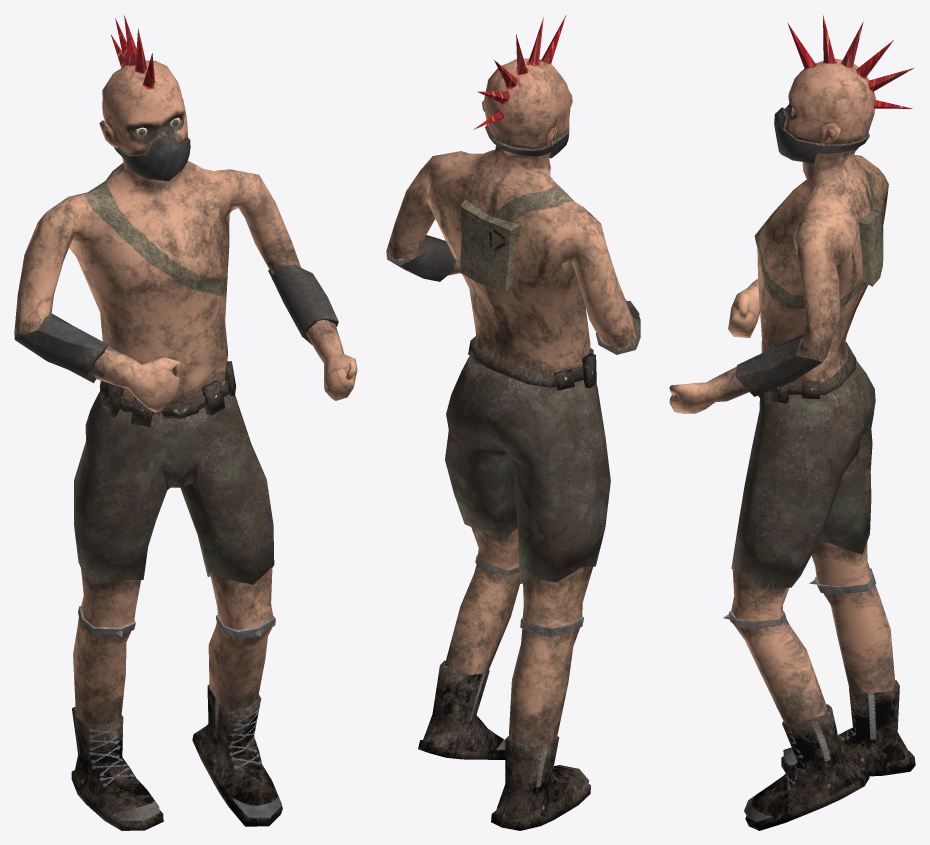
Rendered from Anim_disparar_ametralladora_npc2.0019.obj.
3 renders of one model, left to right at view 1: azimuth 30°, elevation 25°; view 2: azimuth 150°, elevation 25°; view 3: azimuth 270°, elevation 25°, orthographic. The views are drawn at different scales.
Visible parts, largest first — view 1: polySurface1; view 2: polySurface1; view 3: polySurface1.
Boxes of the visible parts, box(x1,y1,x2,y2) form: polySurface1: box(14, 15, 357, 830); polySurface1: box(386, 15, 640, 830); polySurface1: box(669, 15, 915, 830).
Bounding box in the file's own units: 3.65 × 10.27 × 2.98.
2 materials, 2 textured.
